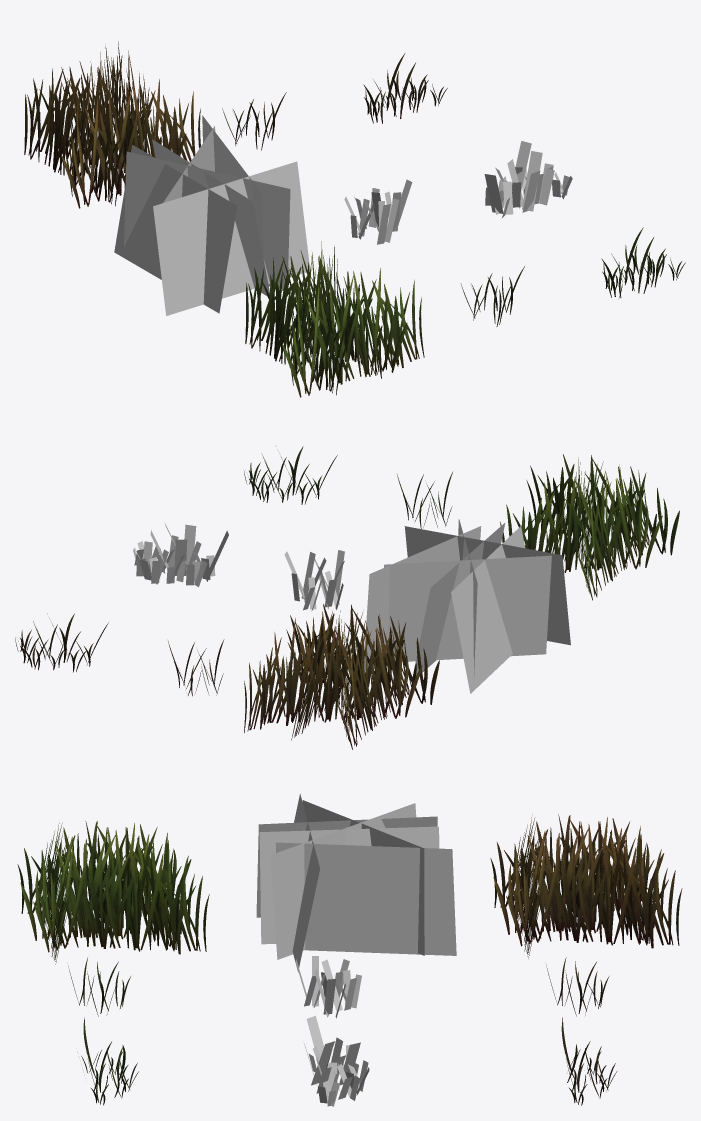
The model's file is Grass.fbx.
3 renders of one model, top to bottom at view 1: azimuth 30°, elevation 25°; view 2: azimuth 150°, elevation 25°; view 3: azimuth 270°, elevation 25°, orthographic. The views are drawn at different scales.
Parts seen in each view (by area): view 1: mid-material, green-material, yellow-material, mid-material.001, mid-material.002, green-material.001, yellow-material.001, green-material.002, yellow-material.002; view 2: mid-material, yellow-material, green-material, mid-material.001, mid-material.002, green-material.001, yellow-material.001, yellow-material.002, green-material.002; view 3: mid-material, yellow-material, green-material, mid-material.001, mid-material.002, green-material.001, yellow-material.001, yellow-material.002, green-material.002.
Boxes of the visible parts, left/top/right/bottom form: mid-material: left=114, top=115, right=310, bottom=315; green-material: left=245, top=241, right=424, bottom=397; yellow-material: left=24, top=41, right=200, bottom=208; mid-material.001: left=484, top=141, right=572, bottom=217; mid-material.002: left=344, top=179, right=412, bottom=244; green-material.001: left=601, top=227, right=685, bottom=297; yellow-material.001: left=363, top=53, right=447, bottom=123; green-material.002: left=460, top=266, right=524, bottom=326; yellow-material.002: left=222, top=92, right=286, bottom=150; mid-material: left=364, top=519, right=570, bottom=693; yellow-material: left=244, top=604, right=439, bottom=749; green-material: left=500, top=454, right=679, bottom=600; mid-material.001: left=133, top=522, right=228, bottom=587; mid-material.002: left=284, top=550, right=344, bottom=611; green-material.001: left=244, top=446, right=337, bottom=504; yellow-material.001: left=15, top=613, right=108, bottom=672; yellow-material.002: left=168, top=639, right=224, bottom=696; green-material.002: left=396, top=472, right=452, bottom=528; mid-material: left=256, top=793, right=456, bottom=972; yellow-material: left=490, top=814, right=682, bottom=958; green-material: left=17, top=821, right=209, bottom=964; mid-material.001: left=304, top=1015, right=369, bottom=1106; mid-material.002: left=295, top=956, right=361, bottom=1018; green-material.001: left=81, top=1017, right=138, bottom=1105; yellow-material.001: left=561, top=1017, right=617, bottom=1105; yellow-material.002: left=546, top=957, right=609, bottom=1016; green-material.002: left=68, top=957, right=130, bottom=1016.
Size of the model in its own units: 278 by 76.67 by 374.
